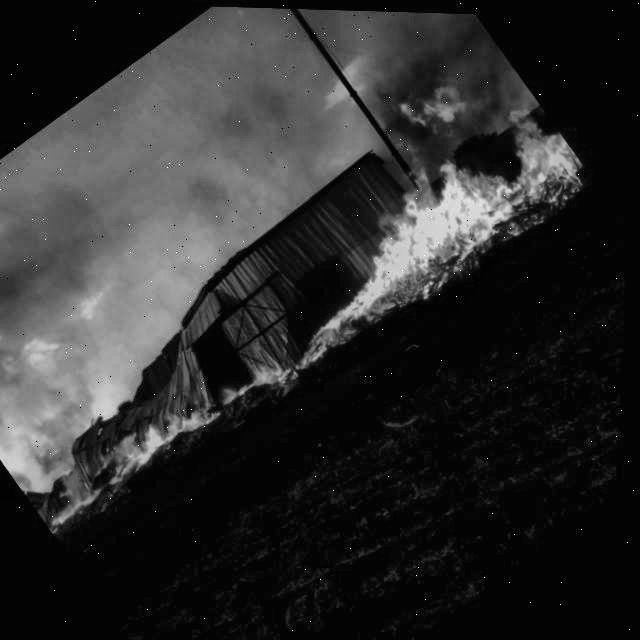Fire: (250, 87, 601, 393), (16, 304, 303, 552)
Smoke: (255, 6, 549, 195)
